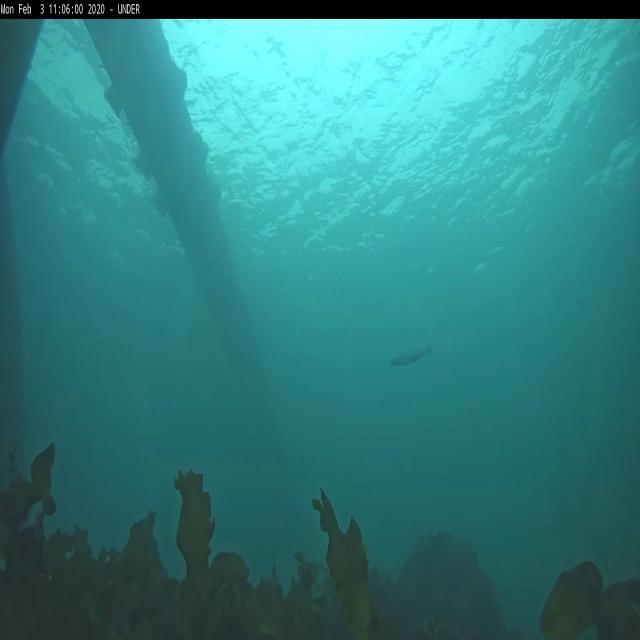fish: (388, 344, 436, 370)
